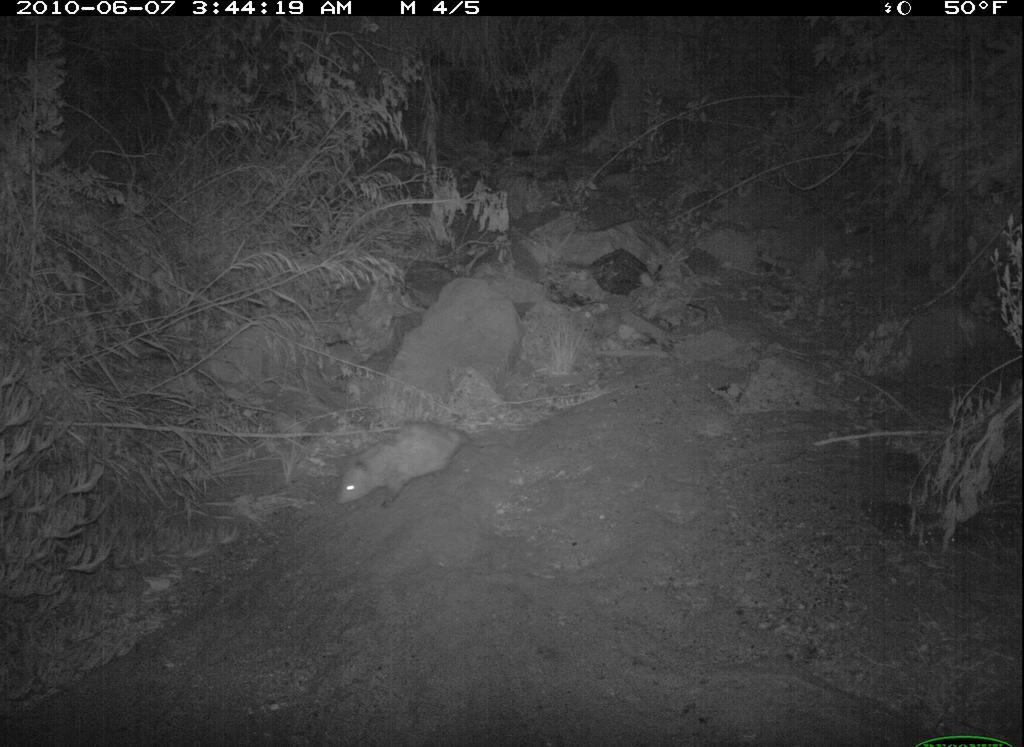opossum: (329, 414, 515, 514)
